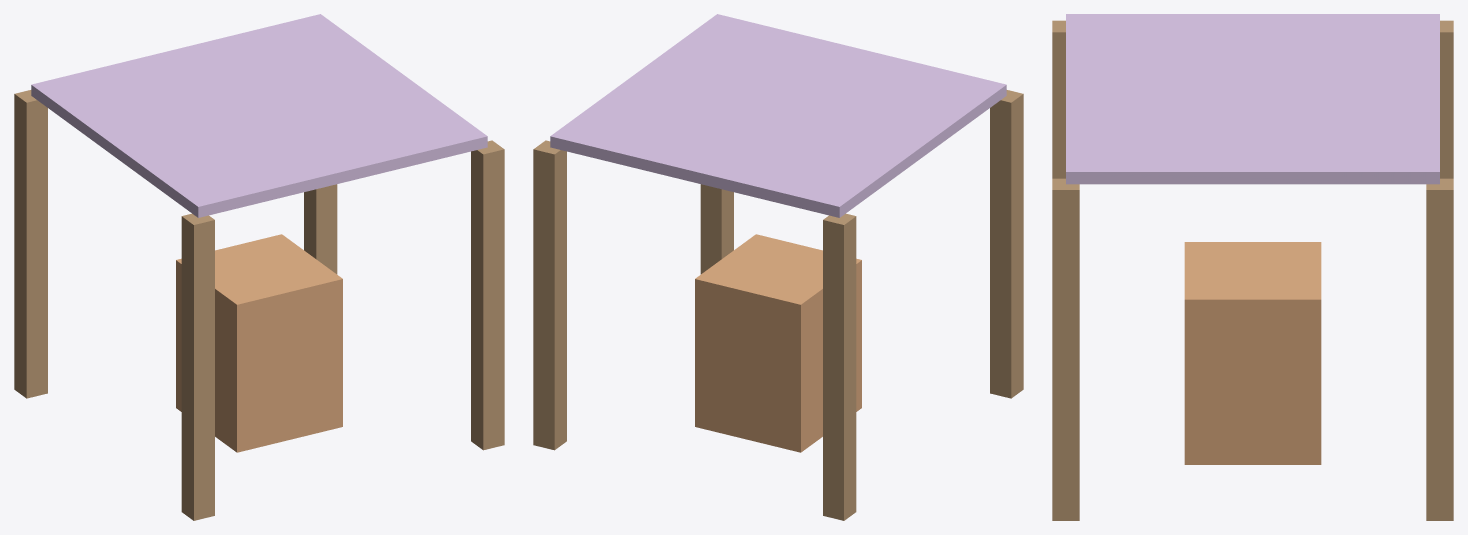
Rendered from Prop_Water_AMF_RainCatcher_V4.glb.
The picture shows the model from 3 angles, left to right: view 1: azimuth 30°, elevation 25°; view 2: azimuth 150°, elevation 25°; view 3: azimuth 270°, elevation 25°; orthographic projection. The views are drawn at different scales.
Parts seen in each view (by area): view 1: Prop_Water_AMF_RainCatcher_V4; view 2: Prop_Water_AMF_RainCatcher_V4; view 3: Prop_Water_AMF_RainCatcher_V4.
Part boxes in pixels (x1=…): Prop_Water_AMF_RainCatcher_V4: x1=14, y1=14, x2=504, y2=520; Prop_Water_AMF_RainCatcher_V4: x1=533, y1=14, x2=1023, y2=520; Prop_Water_AMF_RainCatcher_V4: x1=1052, y1=14, x2=1453, y2=520.
Size of the model in its own units: 1.76 by 1.66 by 1.76.
